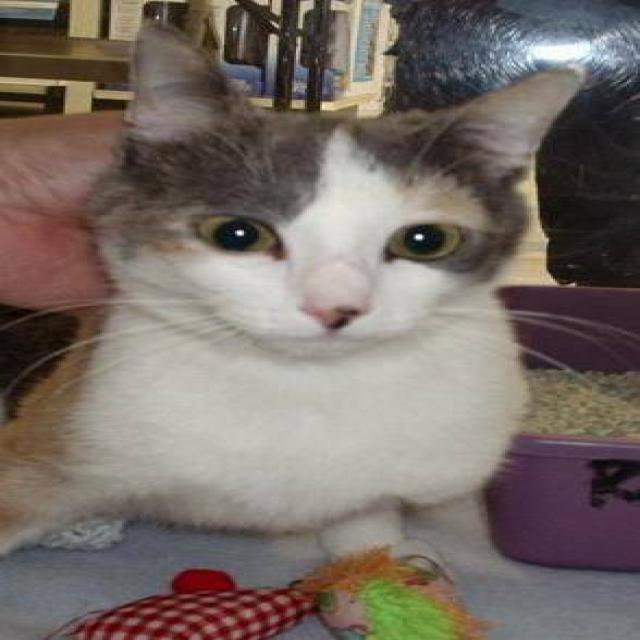Cat: (90, 11, 591, 368)
